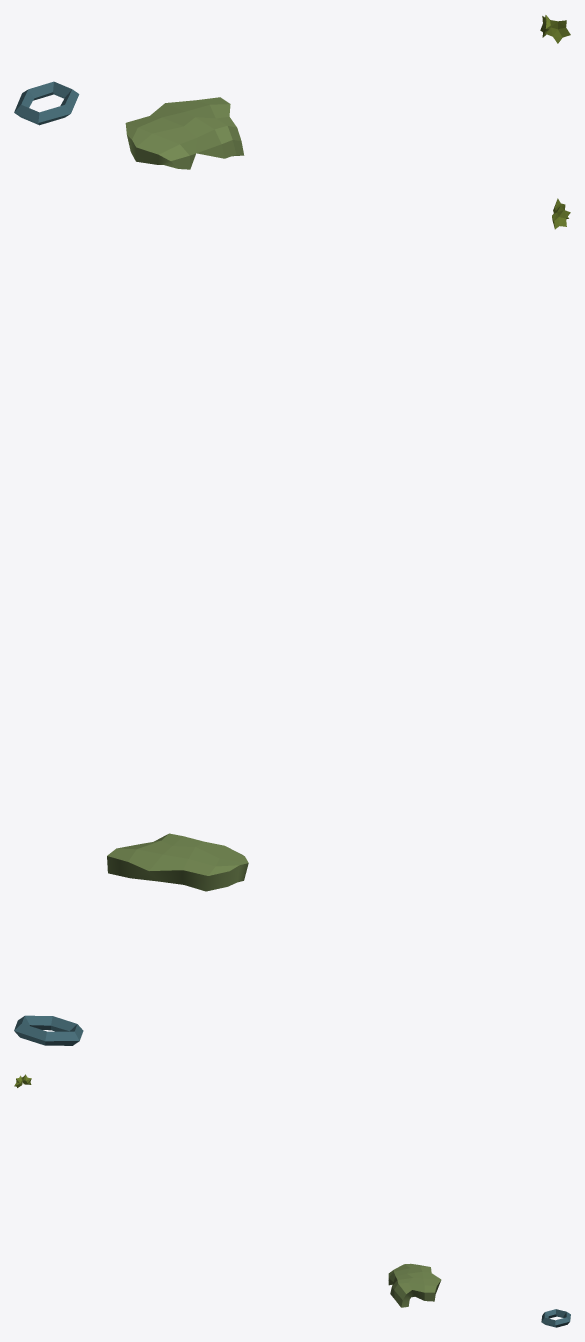
3 views of the same model, one above another, from view 1: azimuth 30°, elevation 25°; view 2: azimuth 150°, elevation 25°; view 3: azimuth 270°, elevation 25° (orthographic). The views are drawn at different scales.
Visible parts, largest first — view 1: Plane069_green3_0, Torus047_metal_0, Box16047_green2_0; view 2: Plane069_green3_0, Torus047_metal_0; view 3: Plane069_green3_0, Torus047_metal_0.
Part boxes in pixels (x1=…): Plane069_green3_0: x1=125, y1=97, x2=244, y2=169; Torus047_metal_0: x1=14, y1=81, x2=79, y2=125; Box16047_green2_0: x1=545, y1=20, x2=570, y2=43; Plane069_green3_0: x1=107, y1=833, x2=248, y2=891; Torus047_metal_0: x1=14, y1=1015, x2=83, y2=1045; Plane069_green3_0: x1=388, y1=1263, x2=441, y2=1307; Torus047_metal_0: x1=541, y1=1309, x2=570, y2=1327.
Bounding box in the file's own units: 684 × 2711 × 5533.
